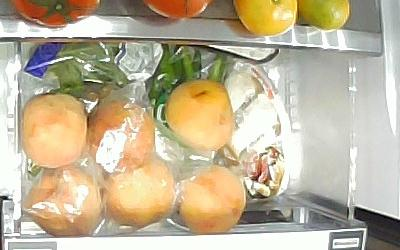peach: (166, 79, 234, 152), (180, 163, 247, 234), (23, 95, 86, 169)
peach_vinyl: (26, 166, 101, 237), (101, 156, 174, 227), (90, 98, 156, 175)
